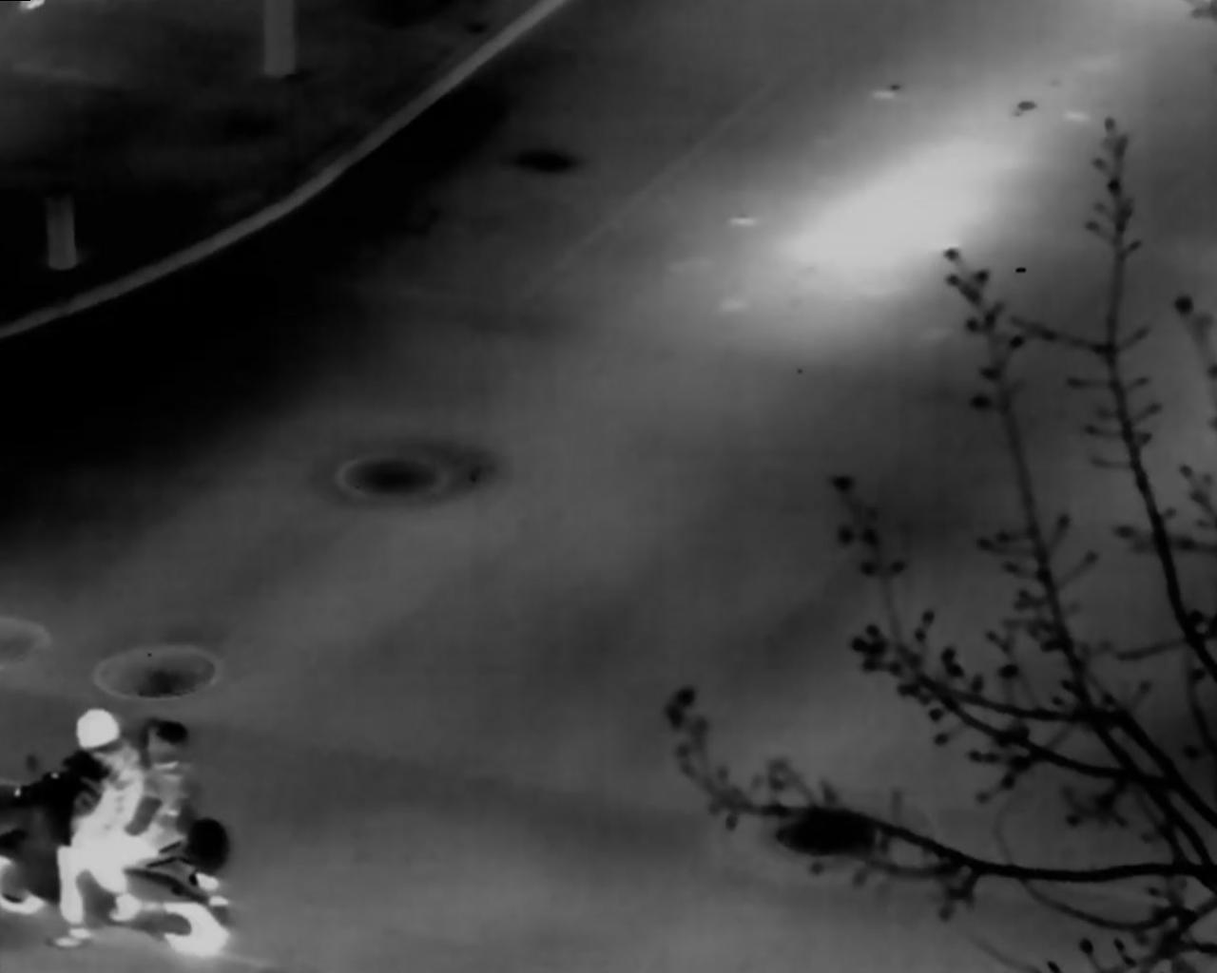person: (59, 706, 144, 944), (126, 717, 194, 871)
